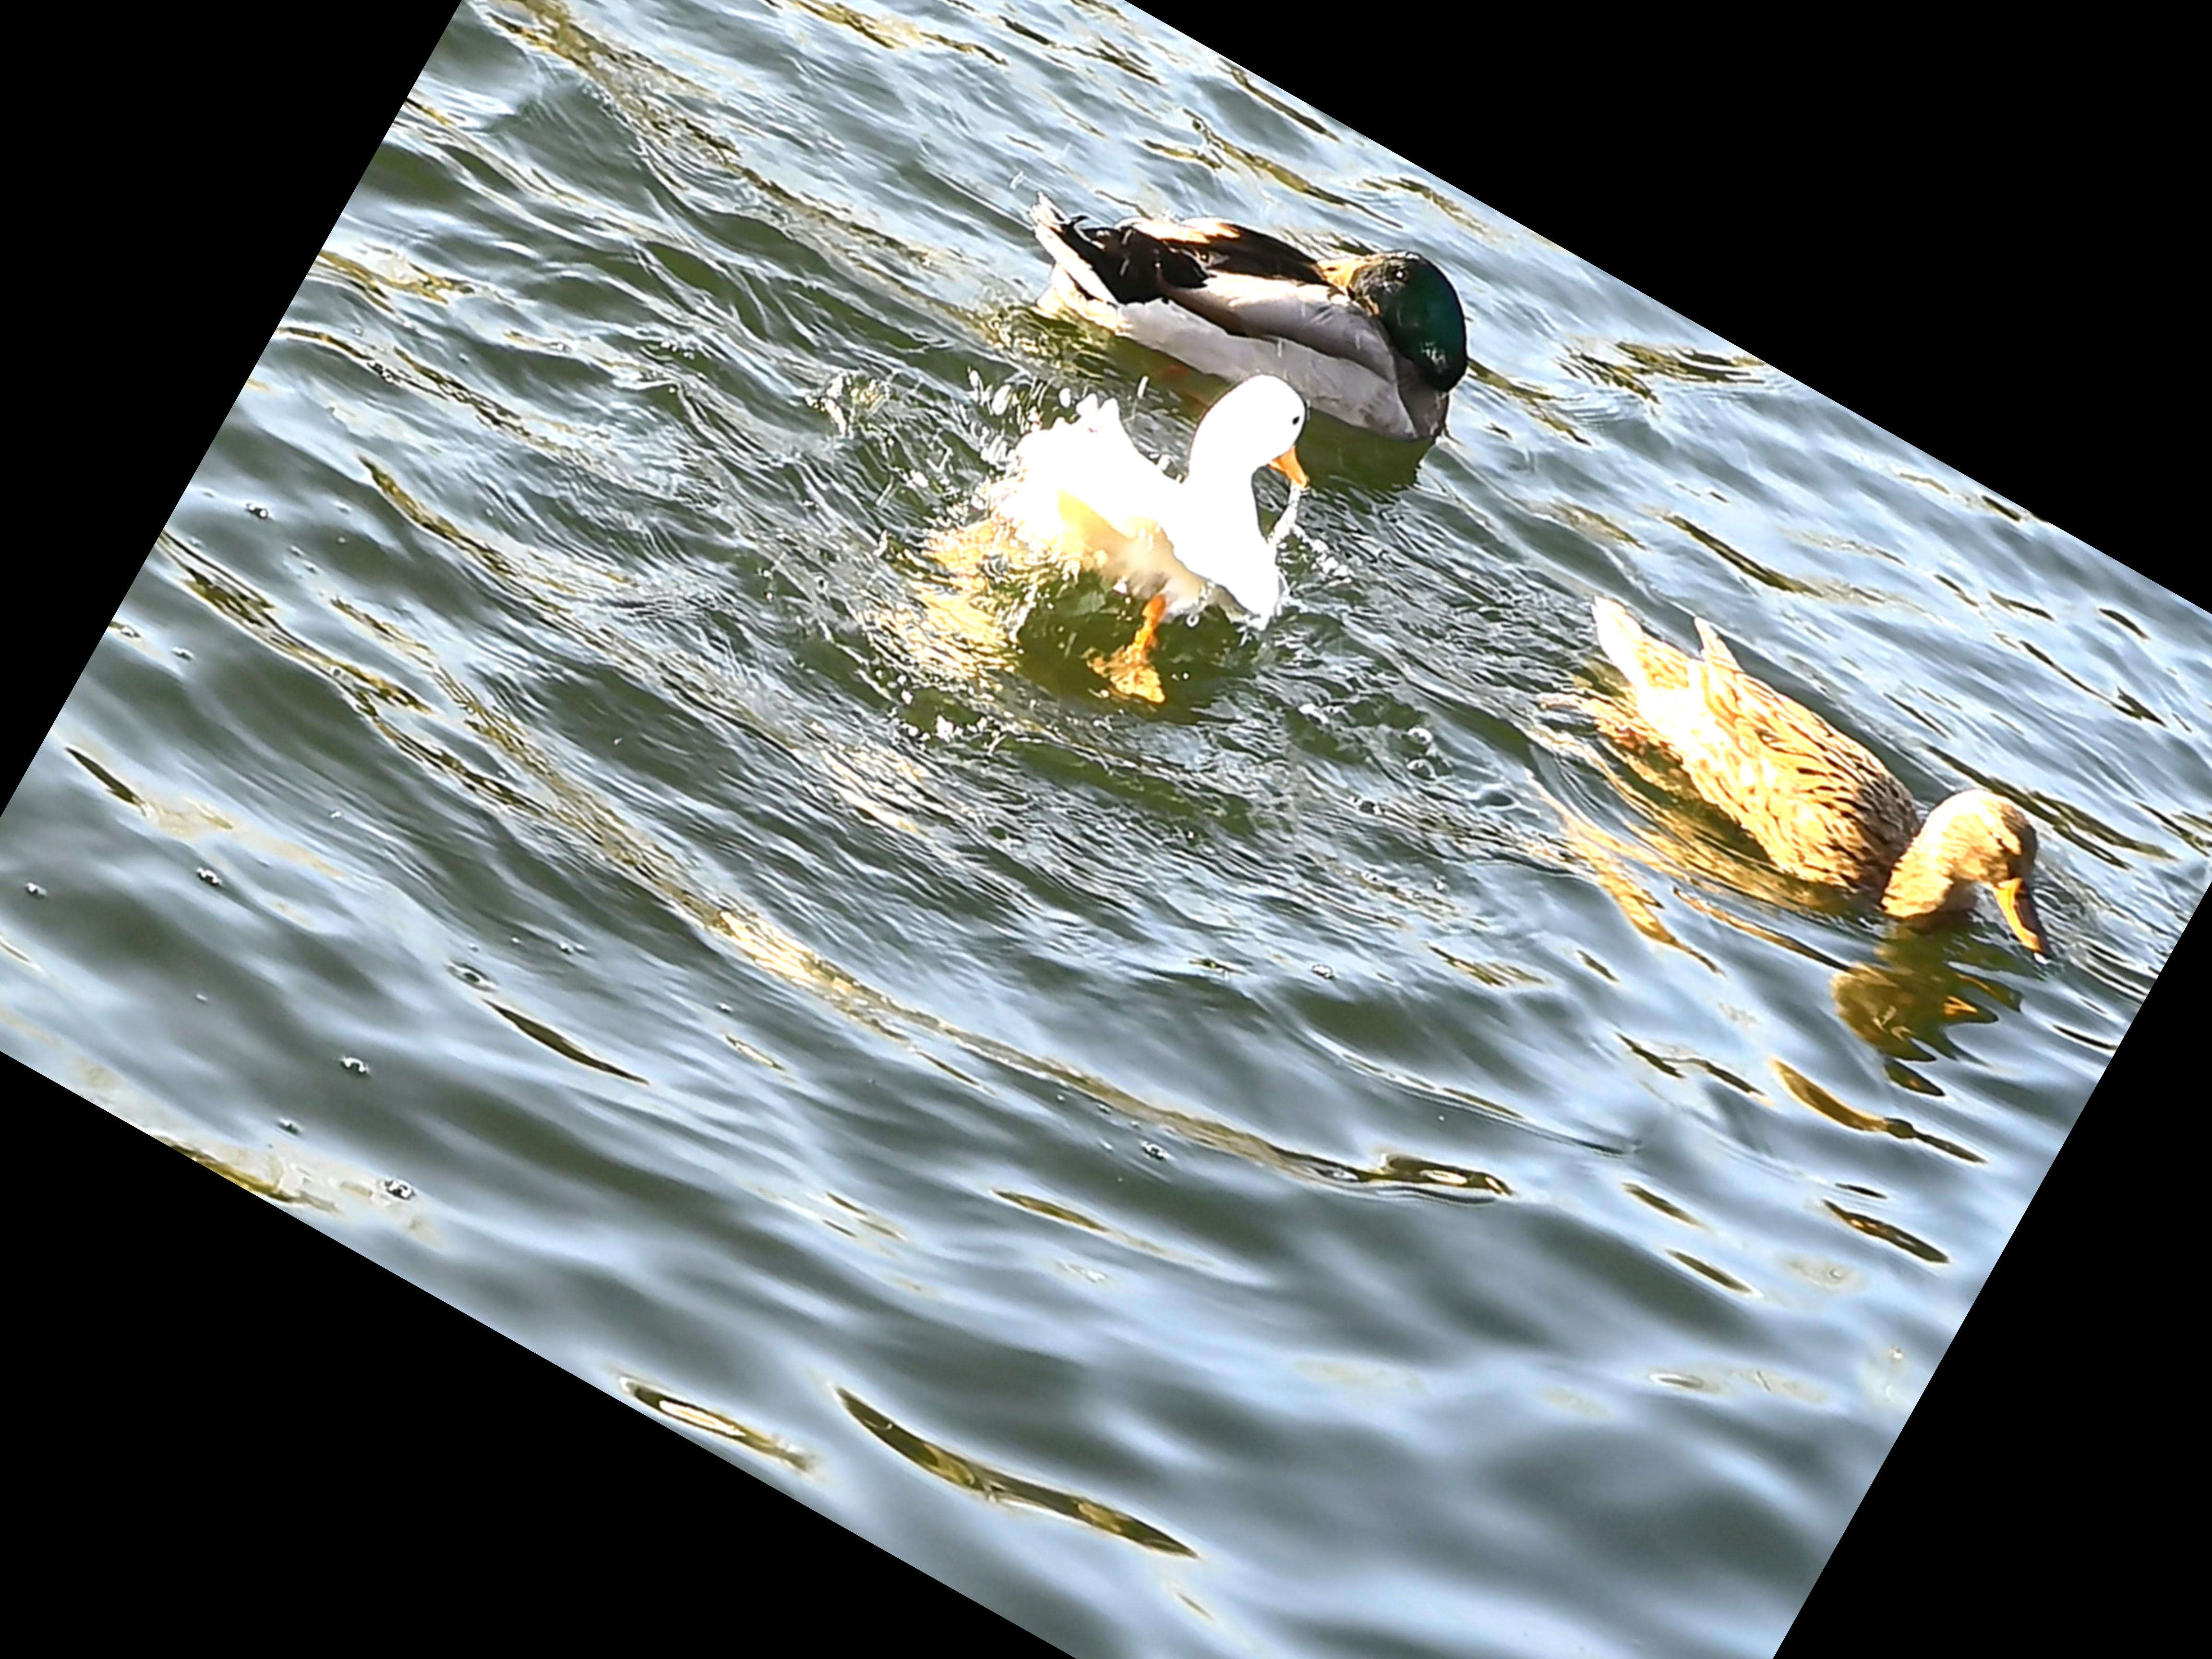duck: (1480, 518, 2160, 1066), (869, 247, 1388, 767), (996, 75, 1527, 512)
